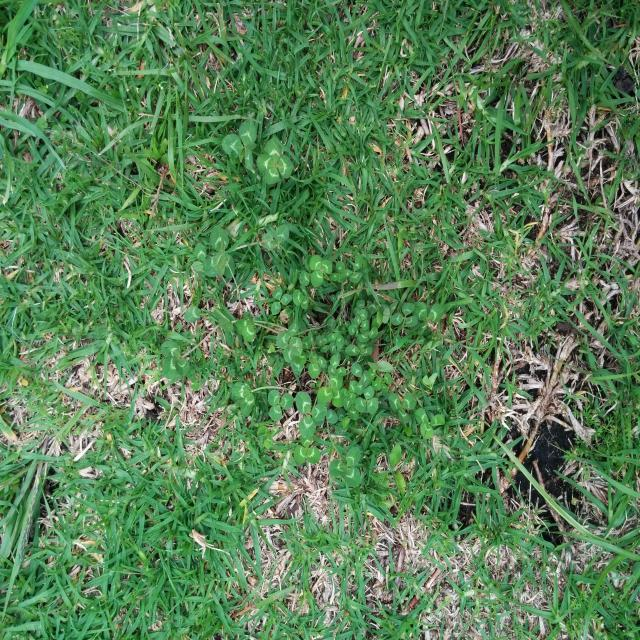Four Leaf Clover: (256, 138, 293, 185)
